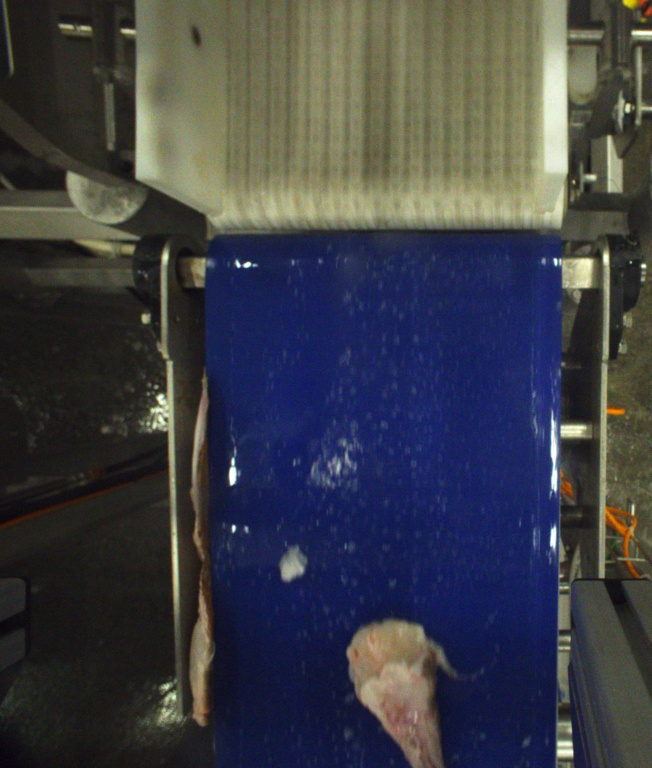ANF: (346, 618, 442, 768)
